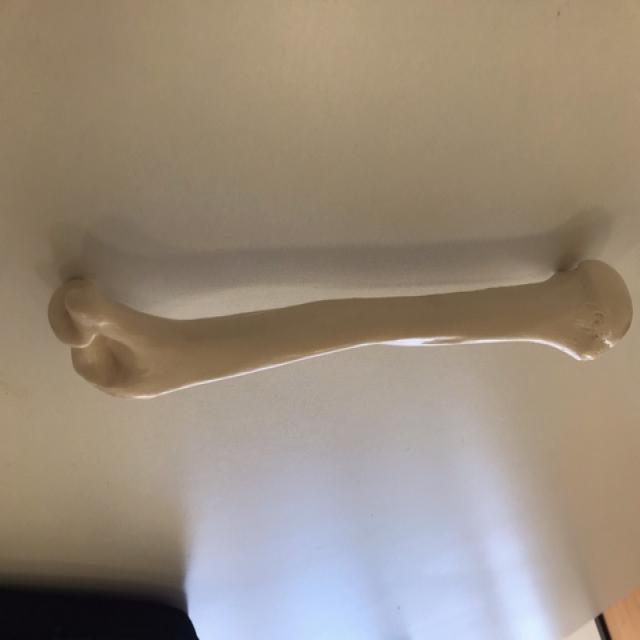bone: (47, 254, 635, 404)
